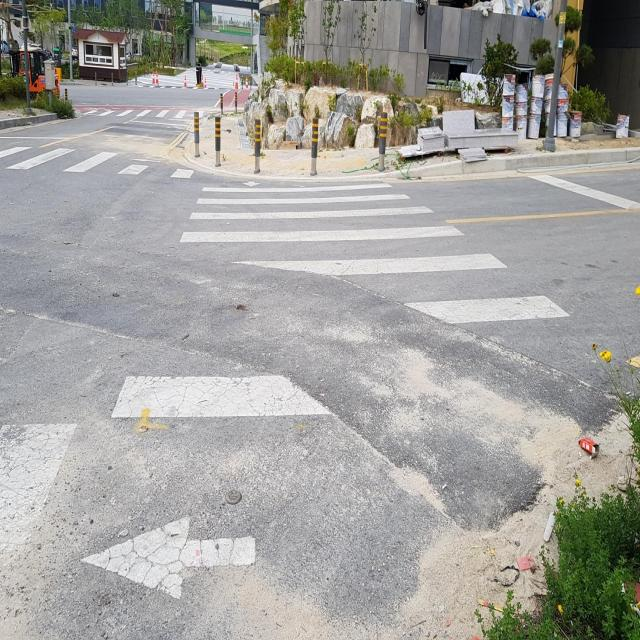횡단보도: (112, 182, 570, 420), (0, 143, 195, 180), (74, 104, 207, 125)
